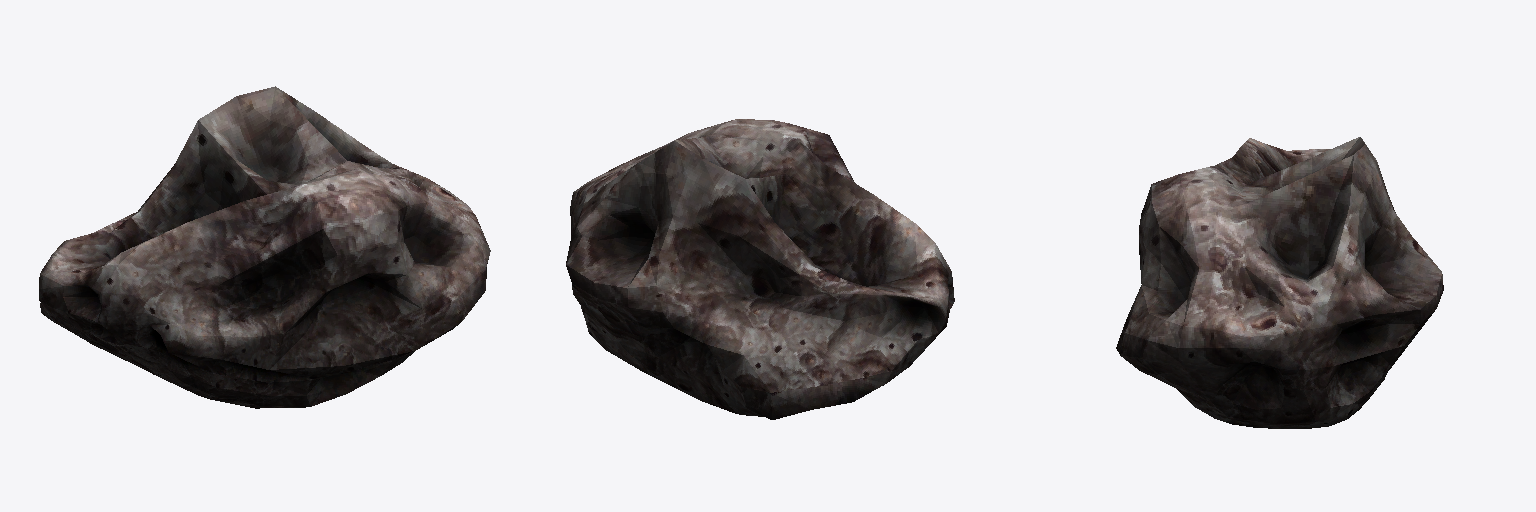
3 views of the same model, side by side, from view 1: azimuth 30°, elevation 25°; view 2: azimuth 150°, elevation 25°; view 3: azimuth 270°, elevation 25° (orthographic).
Parts seen in each view (by area): view 1: group01_m; view 2: group01_m; view 3: group01_m.
Part boxes in pixels (x1,y1,x2,y2): group01_m: (39, 86, 490, 408); group01_m: (566, 119, 954, 419); group01_m: (1116, 137, 1443, 428).
Size of the model in its own units: 2.53 by 1.58 by 1.82.
1 materials, 1 textured.